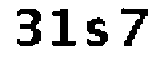1: (49, 6, 78, 54)
3: (8, 6, 43, 53)
7: (117, 3, 151, 51)
s: (82, 15, 111, 50)
